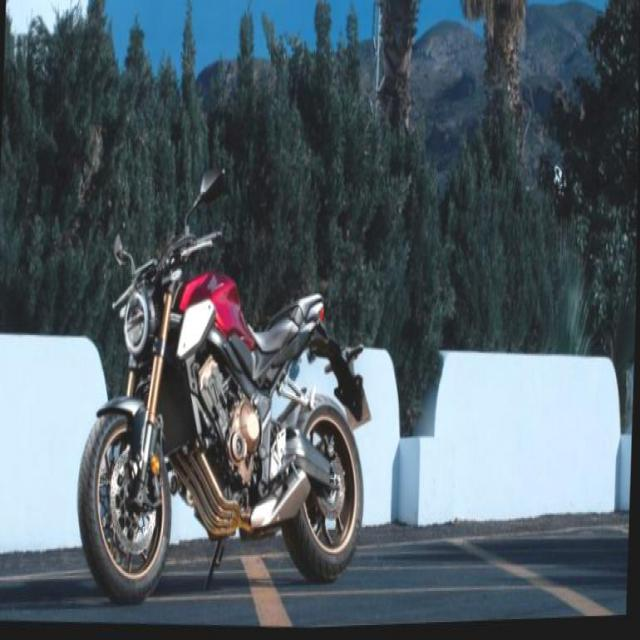CB650R: (74, 256, 372, 624)
